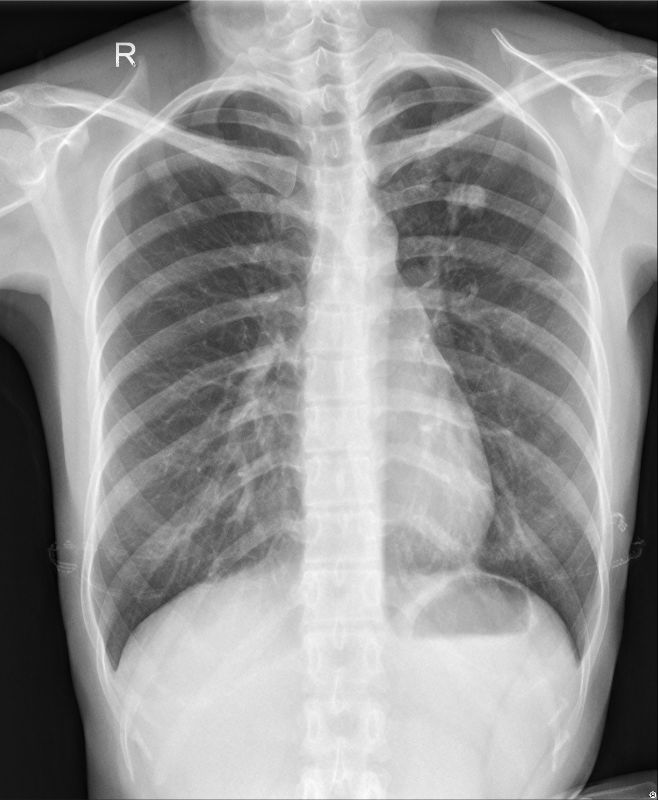Tuberculosis (TB): (427, 152, 491, 232)
